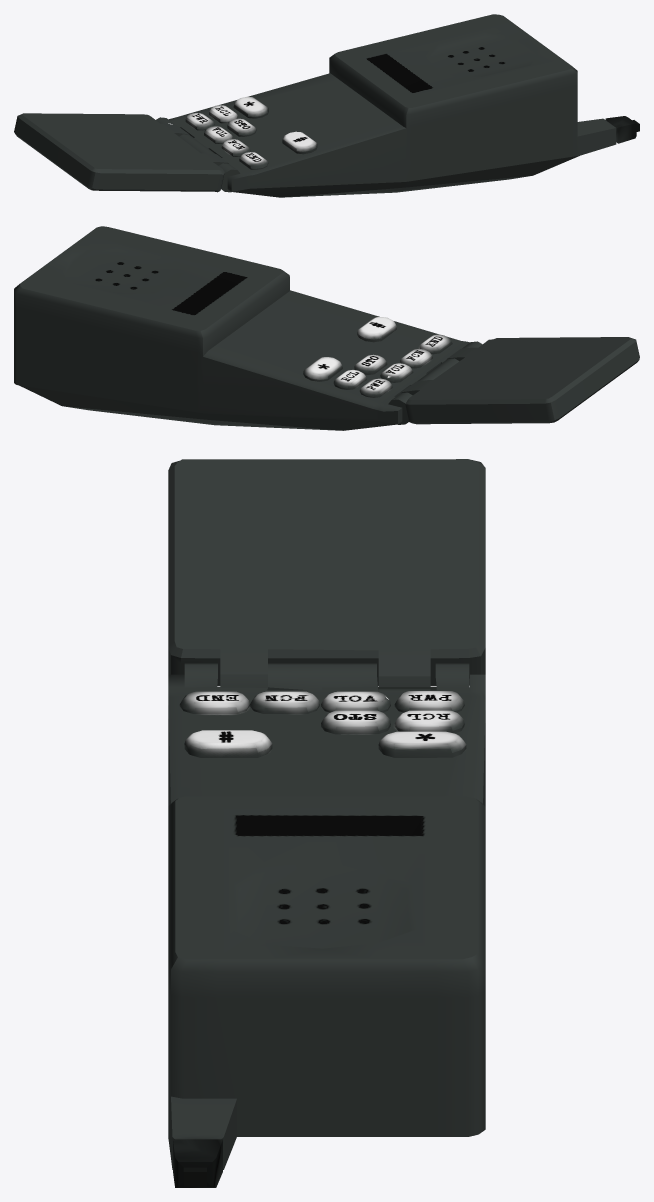
The model's file is maincellphone.glb.
The picture shows the model from 3 angles, top to bottom: view 1: azimuth 30°, elevation 25°; view 2: azimuth 150°, elevation 25°; view 3: azimuth 270°, elevation 25°; orthographic projection. The views are drawn at different scales.
Visible parts, largest first — view 1: main_phone, phone_flip, hashtag_button, asterisk_button, STO_button, RCL_button, END_button, PWR_button, VOL_button, FCW_button; view 2: main_phone, phone_flip, hashtag_button, asterisk_button, RCL_button, STO_button, PWR_button, VOL_button, FCW_button, END_button; view 3: main_phone, phone_flip, hashtag_button, asterisk_button, STO_button, FCW_button, END_button, RCL_button, PWR_button, VOL_button.
Part boxes in pixels (<box>): main_phone: <box>156,14,639,197</box>; phone_flip: <box>14,113,228,192</box>; hashtag_button: <box>282,131,317,154</box>; asterisk_button: <box>233,96,268,118</box>; STO_button: <box>227,118,256,136</box>; RCL_button: <box>209,105,237,123</box>; END_button: <box>239,152,268,169</box>; PWR_button: <box>185,113,214,130</box>; VOL_button: <box>204,126,232,143</box>; FCW_button: <box>221,139,250,156</box>; main_phone: <box>14,226,482,430</box>; phone_flip: <box>401,337,639,424</box>; hashtag_button: <box>357,317,396,342</box>; asterisk_button: <box>303,357,342,381</box>; RCL_button: <box>333,370,366,389</box>; STO_button: <box>354,354,387,374</box>; PWR_button: <box>359,378,392,397</box>; VOL_button: <box>380,363,413,382</box>; FCW_button: <box>400,348,432,368</box>; END_button: <box>419,334,452,354</box>; main_phone: <box>168,663,485,1187</box>; phone_flip: <box>168,459,485,690</box>; hashtag_button: <box>184,730,272,757</box>; asterisk_button: <box>378,731,466,757</box>; STO_button: <box>321,710,390,734</box>; FCW_button: <box>249,691,319,713</box>; END_button: <box>179,691,249,713</box>; RCL_button: <box>394,710,464,733</box>; PWR_button: <box>394,691,464,712</box>; VOL_button: <box>321,691,390,712</box>.
Size of the model in its own units: 0.0402 by 0.00841 by 0.01.
Materials: 1 (1 with a texture image).
